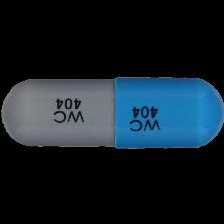67253-181: (0, 0, 224, 224)
